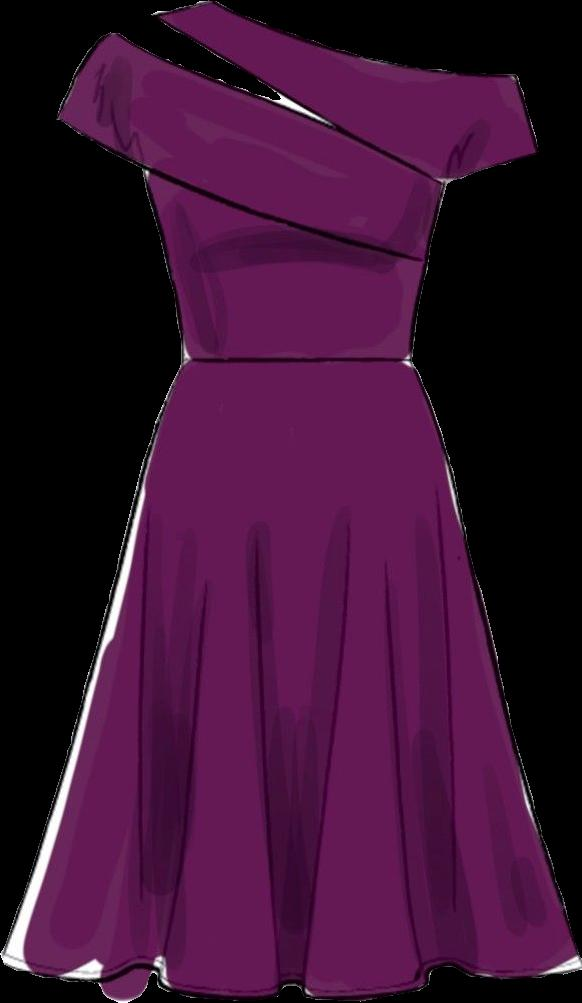Bodice: (57, 1, 537, 364)
Hemline: (0, 951, 581, 1002)
Neckline: (109, 10, 448, 190), (138, 159, 428, 275), (208, 0, 522, 86)
Skirt: (1, 359, 581, 1002)
Waistline: (180, 350, 413, 371)
